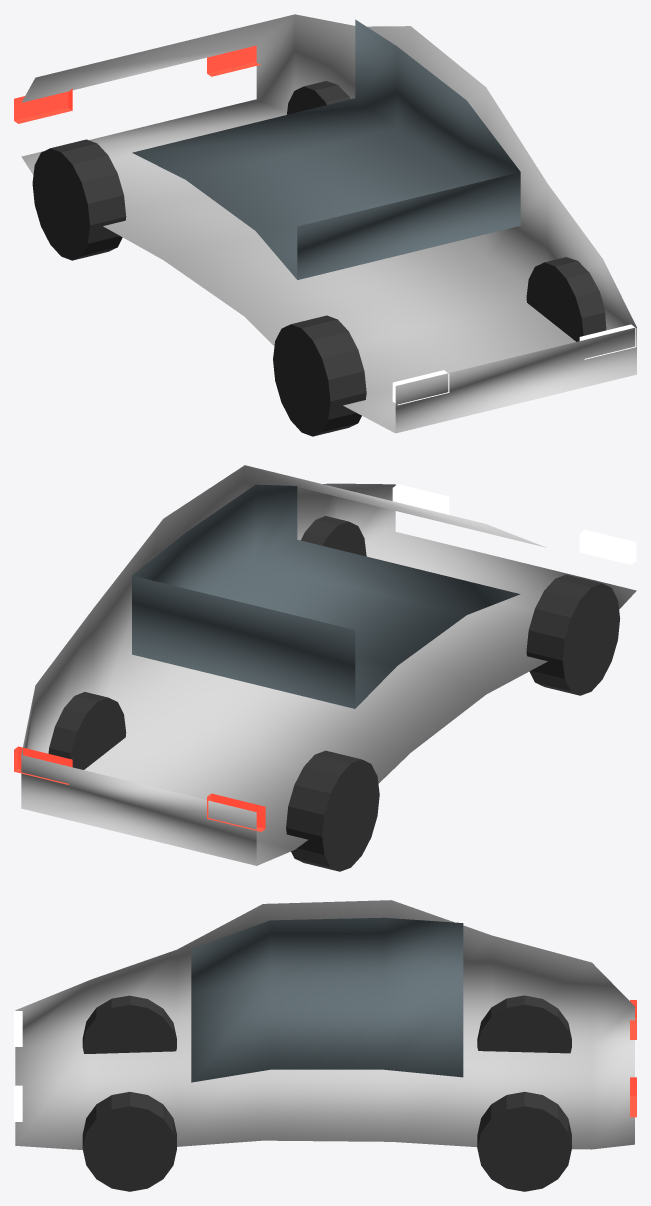
Rendered from traffic-sedan.glb.
The picture shows the model from 3 angles, top to bottom: view 1: azimuth 30°, elevation 25°; view 2: azimuth 150°, elevation 25°; view 3: azimuth 270°, elevation 25°; orthographic projection. The views are drawn at different scales.
Visible parts, largest first — view 1: body, glass, wheel (×4), taillight, headlamp; view 2: body, glass, wheel (×4), headlamp, taillight; view 3: body, glass, wheel (×4), headlamp, taillight.
Boxes of the visible parts, x1,y1,x2,y2 form: body: (21, 14, 636, 433); glass: (132, 19, 520, 279); wheel (×4): (32, 81, 606, 436); taillight: (14, 45, 260, 123); headlamp: (392, 324, 636, 405); body: (21, 465, 636, 865); glass: (132, 484, 520, 708); wheel (×4): (48, 516, 620, 871); headlamp: (392, 484, 636, 564); taillight: (14, 746, 265, 831); body: (15, 900, 634, 1149); glass: (191, 917, 463, 1082); wheel (×4): (82, 995, 571, 1191); headlamp: (14, 1011, 22, 1121); taillight: (630, 1000, 636, 1117).
Size of the model in its own units: 1.92 by 1.42 by 4.36.
